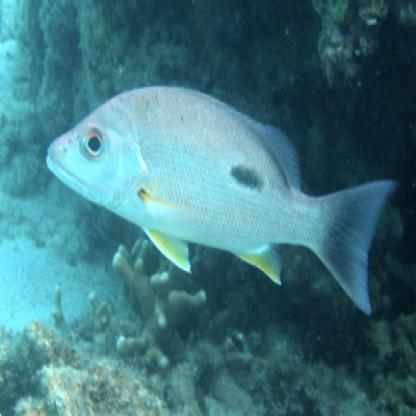snapper: (45, 81, 398, 321)
